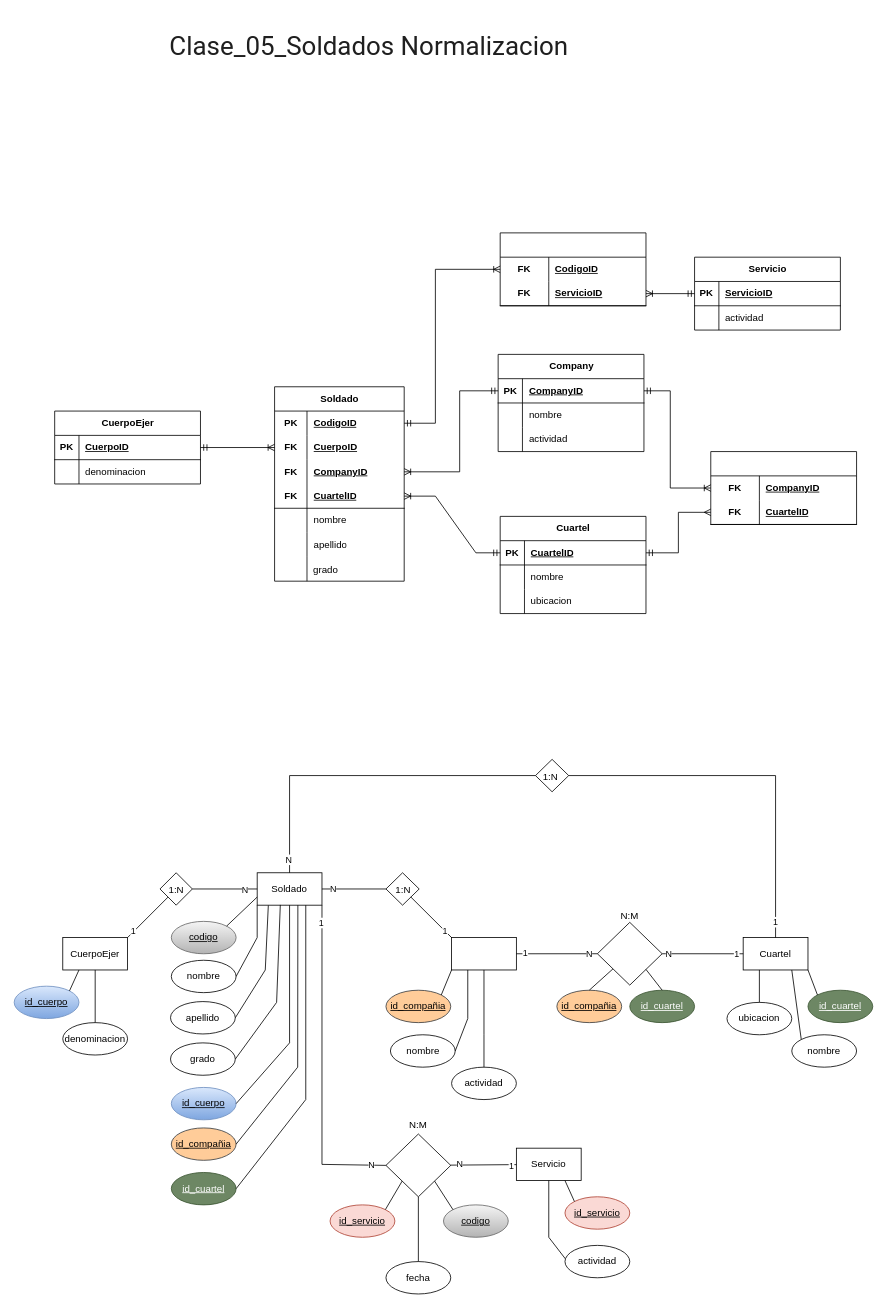
This 887x1308 diagram has some shape labels left out. The box of each missing label's shape, as (x1, y1, x2, y2) in pixels:
asignacion: (597, 922, 662, 985)
Company/Cuartel: (710, 451, 857, 524)
Compañia: (451, 937, 516, 970)
RegistroS: (385, 1133, 451, 1197)
Soldado/Servicio: (499, 232, 646, 306)
